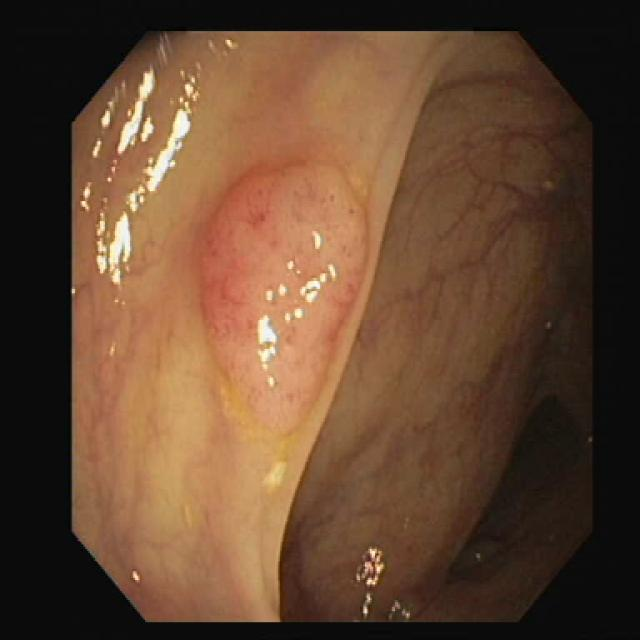tumor: (205, 164, 363, 427)
